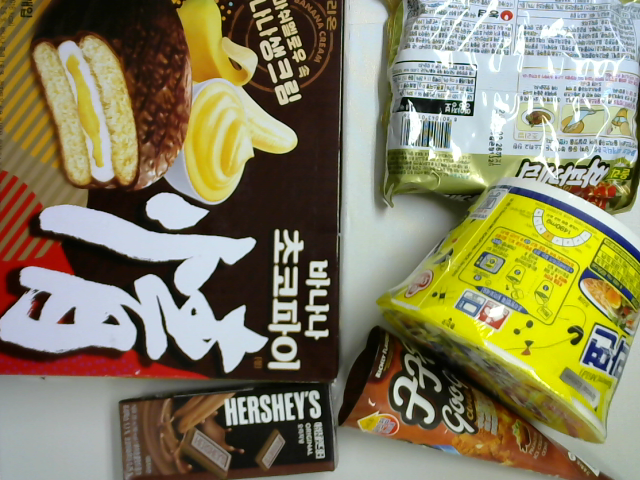Choco_Pie_Banana: (1, 1, 352, 394)
GooGoo_Cone_CVS: (336, 324, 614, 480)
Hush_Choco_Drink: (115, 382, 339, 480)
Jinlamyeon_Mild_Taste_Large_Cup: (375, 173, 640, 443)
Olive_Chapaghetti: (377, 1, 640, 215)
